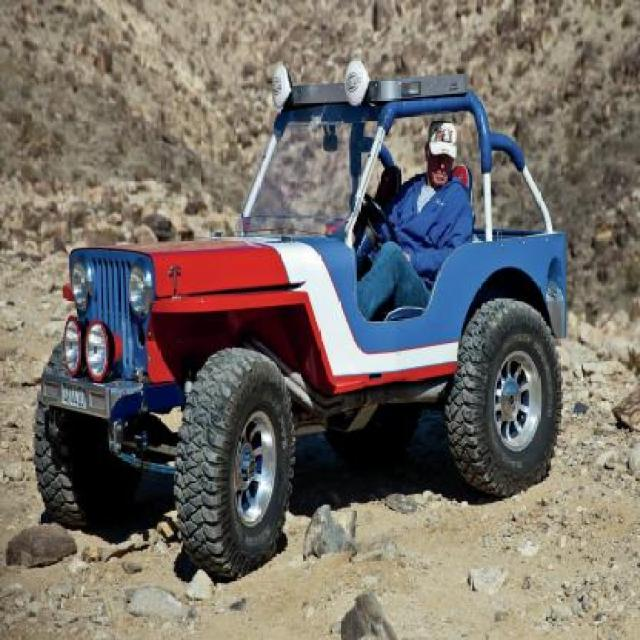Jeep: (31, 56, 569, 578)
